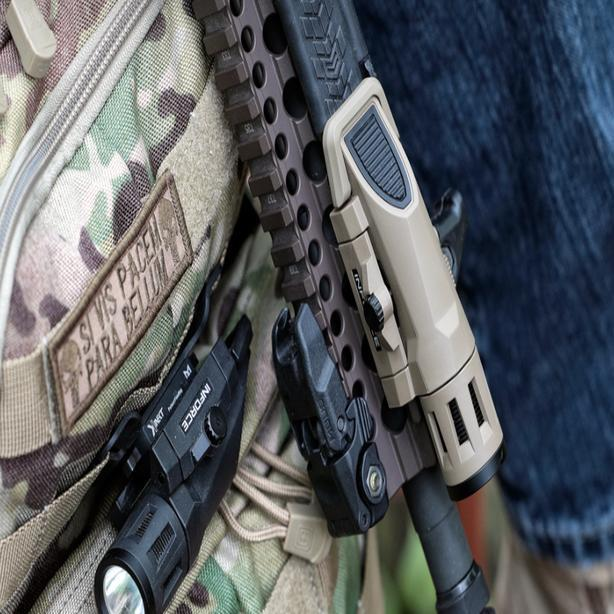Firearm: (177, 0, 565, 614)
